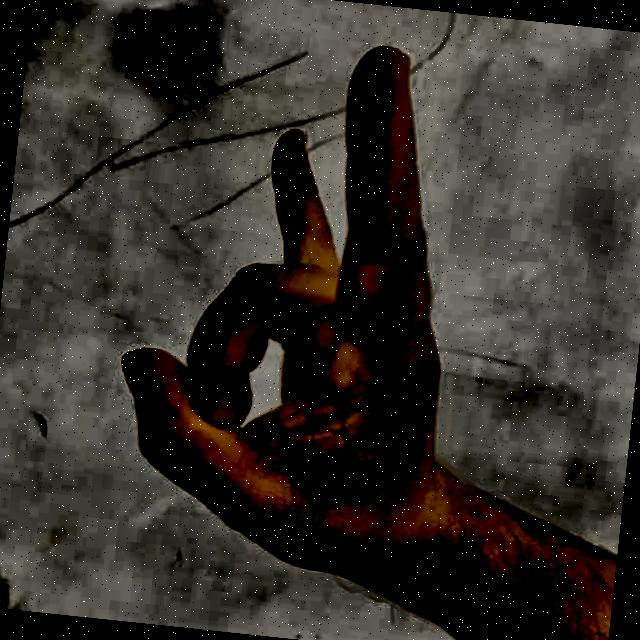Cha: (69, 7, 565, 640)
